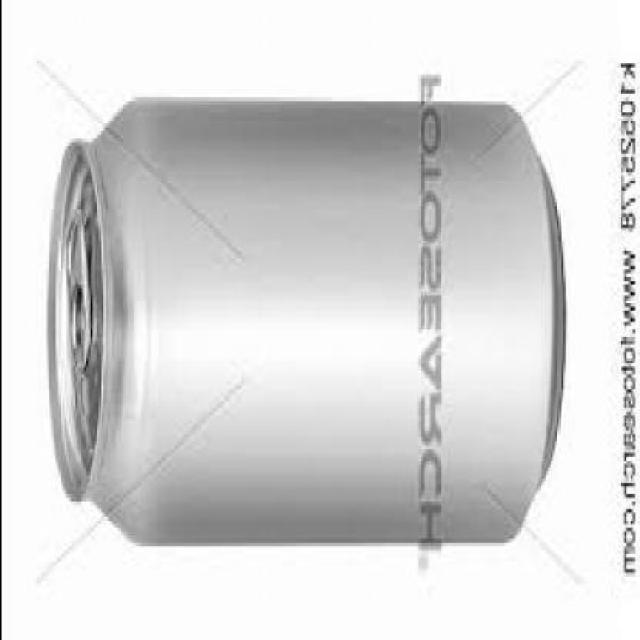metal: (46, 94, 565, 543)
